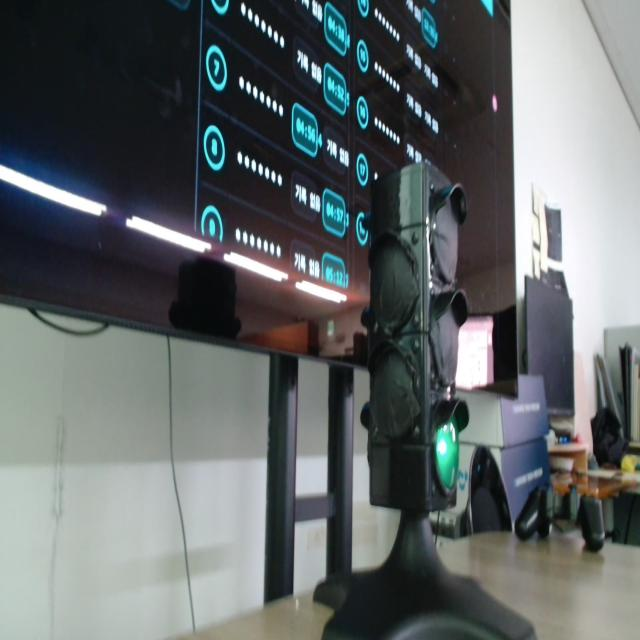green_light: (436, 418, 459, 491)
